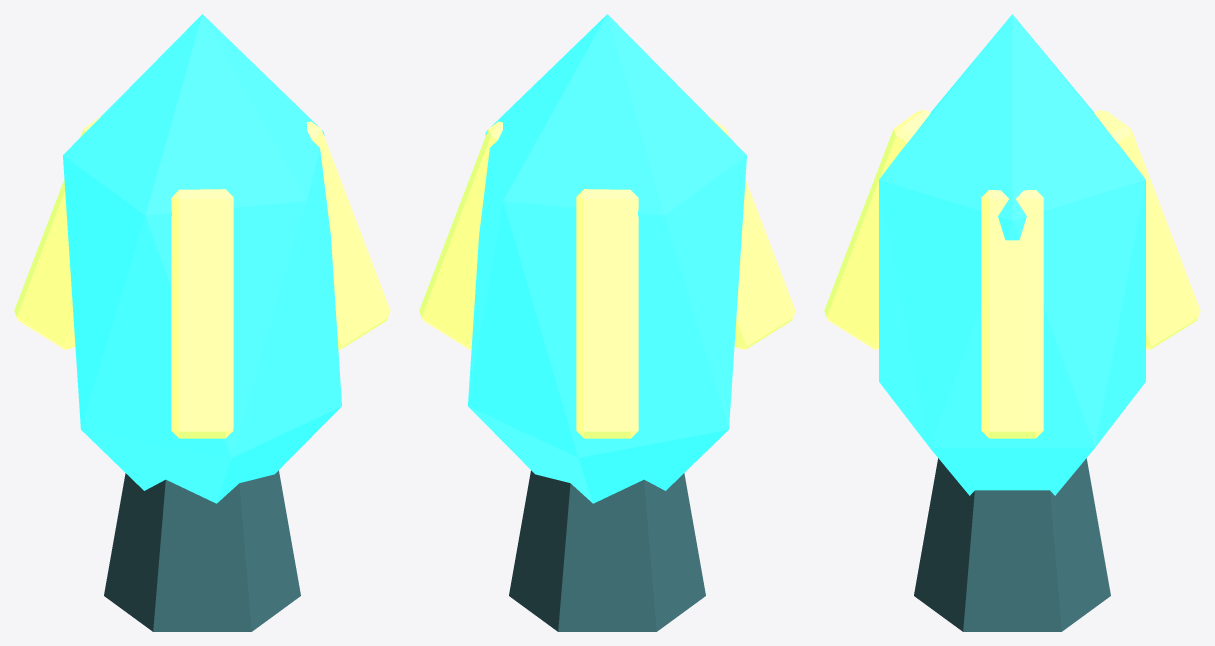
Rendered from bloom_lumen_pod.glb.
3 views of the same model, side by side, from view 1: azimuth 30°, elevation 25°; view 2: azimuth 150°, elevation 25°; view 3: azimuth 270°, elevation 25° (orthographic).
Visible parts, largest first — view 1: Lumen_Pod_Faceted_Shell, Pod_Lower_Stem, Pod_Fin.002, Pod_Fin, Pod_Fin.001; view 2: Lumen_Pod_Faceted_Shell, Pod_Lower_Stem, Pod_Fin.001, Pod_Fin, Pod_Fin.002; view 3: Lumen_Pod_Faceted_Shell, Pod_Lower_Stem, Pod_Fin, Pod_Fin.002, Pod_Fin.001.
Part boxes in pixels (x1,y1,x2,y2): Lumen_Pod_Faceted_Shell: (63, 14, 341, 503); Pod_Lower_Stem: (104, 470, 300, 631); Pod_Fin.002: (171, 189, 233, 438); Pod_Fin: (306, 121, 390, 349); Pod_Fin.001: (14, 115, 101, 349); Lumen_Pod_Faceted_Shell: (468, 14, 746, 503); Pod_Lower_Stem: (509, 470, 705, 631); Pod_Fin.001: (576, 189, 638, 438); Pod_Fin: (419, 121, 502, 349); Pod_Fin.002: (707, 115, 795, 349); Lumen_Pod_Faceted_Shell: (879, 14, 1145, 495); Pod_Lower_Stem: (914, 458, 1110, 631); Pod_Fin: (981, 189, 1043, 438); Pod_Fin.002: (824, 109, 930, 349); Pod_Fin.001: (1094, 109, 1200, 349).
Size of the model in its own units: 0.6634 by 1.24 by 0.7255.
